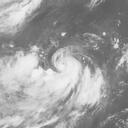cyclone: (48, 43, 90, 82)
